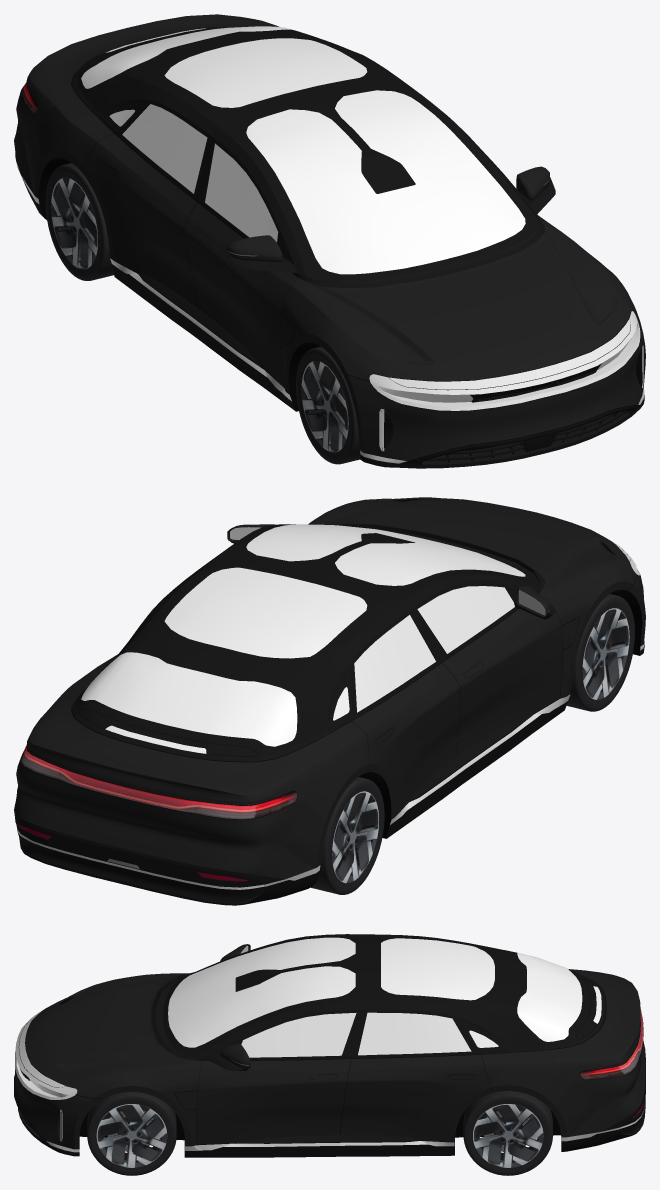
The model's file is autorepair-car.glb.
3 views of the same model, one above another, from view 1: azimuth 30°, elevation 25°; view 2: azimuth 150°, elevation 25°; view 3: azimuth 270°, elevation 25° (orthographic). The views are drawn at different scales.
Visible parts, largest first — view 1: windshield, hood, front_bumper, right_rear_door, right_front_door, panoramic_roof, right_rear_fender, roof, front_position, trunk, rear_right_wheel, front_right_wheel (+11 smaller); view 2: rear_bumper, rear_window, trunk, hood, right_front_door, panoramic_roof, right_rear_door, windshield, roof, right_rear_fender, rear_right_wheel, front_right_wheel (+8 smaller); view 3: windshield, left_front_door, hood, left_rear_door, left_rear_fender, rear_left_wheel, front_left_wheel, panoramic_roof, rear_window, rear_bumper, trunk, roof (+9 smaller).
Part boxes in pixels (left/top/right/bottom): windshield: left=230, top=90, right=539, bottom=282; hood: left=291, top=219, right=631, bottom=381; front_bumper: left=341, top=306, right=645, bottom=468; right_rear_door: left=83, top=100, right=211, bottom=318; right_front_door: left=183, top=136, right=297, bottom=391; panoramic_roof: left=164, top=38, right=367, bottom=107; right_rear_fender: left=38, top=74, right=306, bottom=276; roof: left=122, top=30, right=415, bottom=135; front_position: left=369, top=311, right=640, bottom=410; trunk: left=26, top=14, right=278, bottom=121; rear_right_wheel: left=45, top=163, right=113, bottom=280; front_right_wheel: left=296, top=346, right=360, bottom=464; rear_bumper: left=14, top=759, right=328, bottom=905; rear_window: left=76, top=650, right=300, bottom=756; trunk: left=26, top=693, right=313, bottom=805; hood: left=308, top=497, right=628, bottom=598; right_front_door: left=412, top=582, right=562, bottom=768; panoramic_roof: left=164, top=567, right=367, bottom=658; right_rear_door: left=350, top=609, right=464, bottom=824; windshield: left=230, top=524, right=539, bottom=592; roof: left=123, top=547, right=415, bottom=694; right_rear_fender: left=298, top=574, right=539, bottom=823; rear_right_wheel: left=311, top=777, right=384, bottom=894; front_right_wheel: left=566, top=594, right=634, bottom=711; windshield: left=163, top=934, right=355, bottom=1057; left_front_door: left=196, top=1010, right=362, bottom=1150; hood: left=25, top=973, right=204, bottom=1088; left_rear_door: left=340, top=1009, right=491, bottom=1146; left_rear_fender: left=196, top=1001, right=573, bottom=1110; rear_left_wheel: left=463, top=1091, right=552, bottom=1175; front_left_wheel: left=87, top=1092, right=176, bottom=1175; panoramic_roof: left=381, top=938, right=494, bottom=1000; rear_window: left=514, top=952, right=601, bottom=1046; rear_bumper: left=551, top=1041, right=645, bottom=1151; trunk: left=546, top=969, right=640, bottom=1081; roof: left=346, top=934, right=523, bottom=1016.
Size of the model in its own units: 2.2 by 1.4 by 4.98.
Materials: 11 (3 with a texture image).
